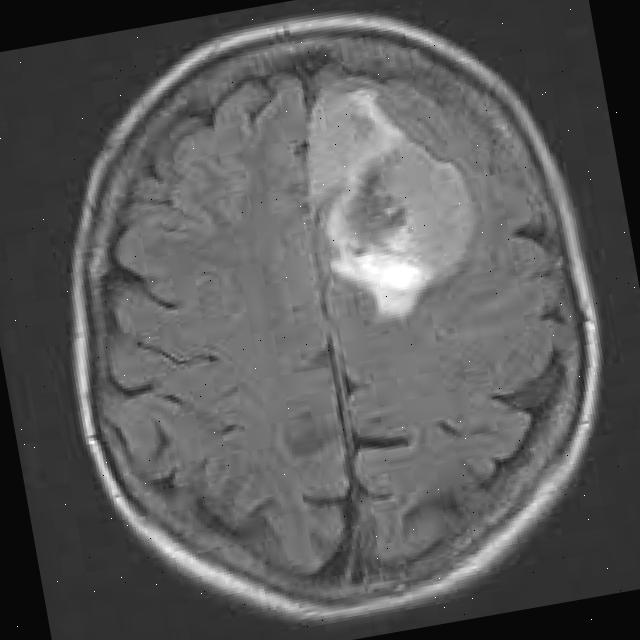tumor: (306, 76, 476, 321)
